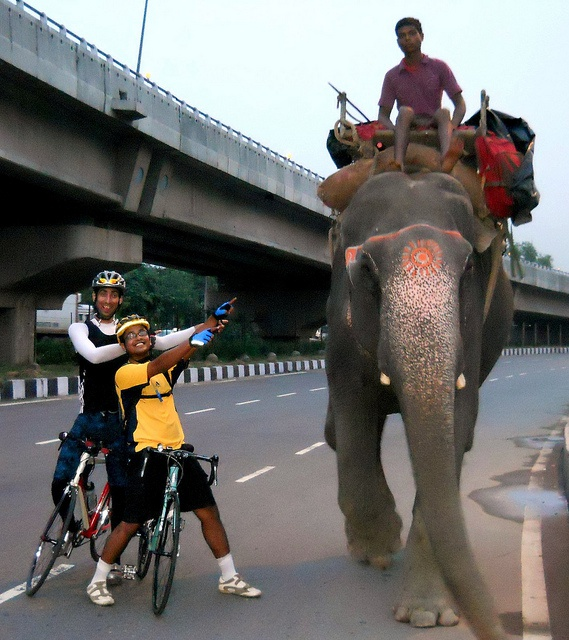non-vehicle: (134, 441, 222, 615), (28, 430, 114, 598)
